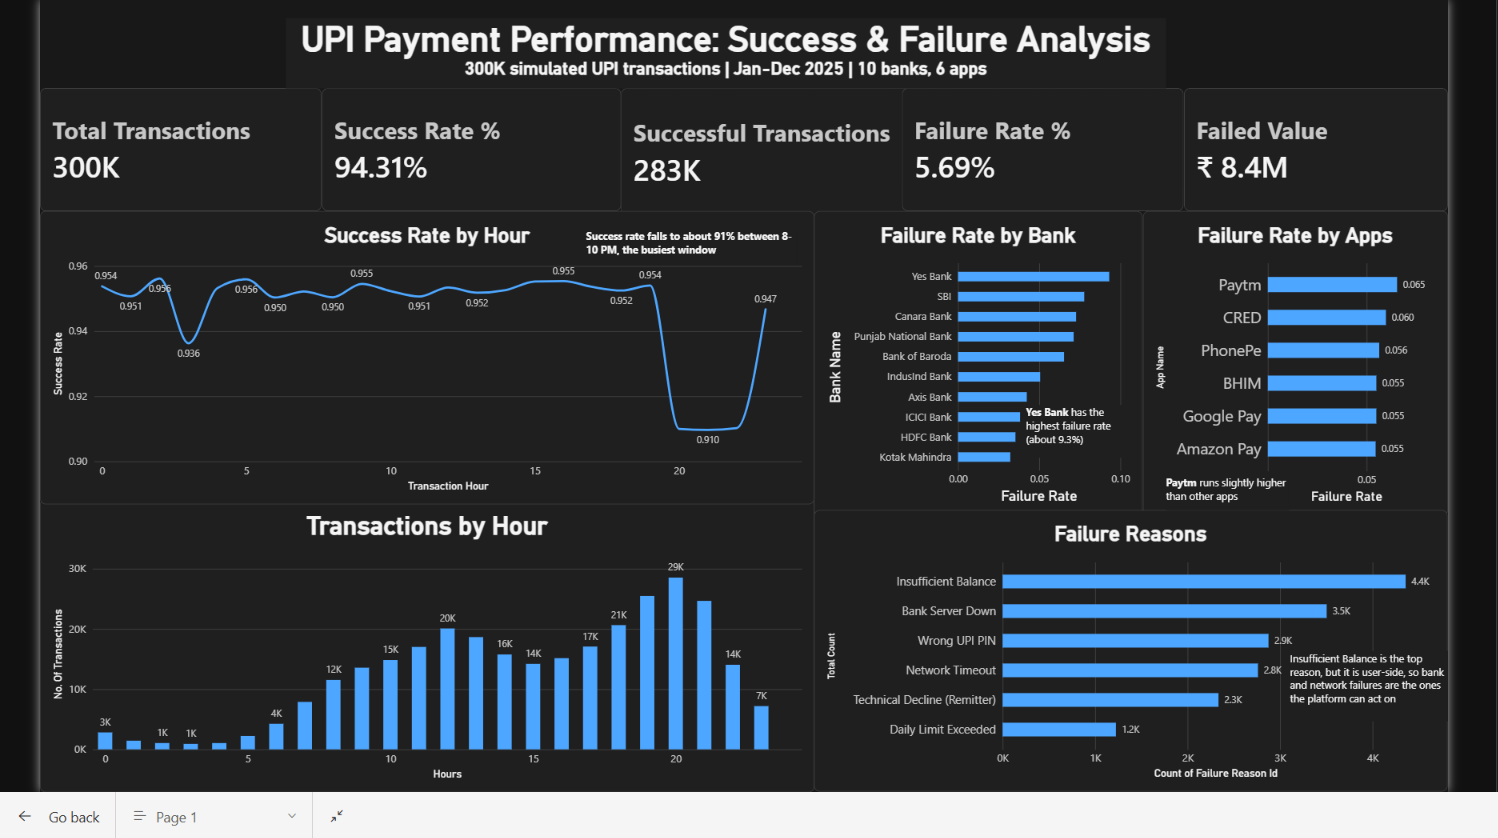

The dashboard page shown, as its layout file describes it:
{"tool":"powerbi","page":{"name":"Page 1","canvas":[1920,1080],"ordinal":0},"visuals":[{"type":"barChart","title":"Failure Rate by Apps","fields":{"Category":["dim_app.app_name"],"Y":["fact_transactions.Failure_Rate"]},"box":[1504,288,416,416],"z":0},{"type":"cardVisual","title":"Total Transactions","fields":{"Data":["fact_transactions.Total_transactions"]},"box":[0,120,384,168],"z":1000},{"type":"cardVisual","fields":{"Data":["fact_transactions.Successful_Transactions"]},"box":[792,120,400,176],"z":2000},{"type":"clusteredBarChart","title":"Failure Rate by Bank","fields":{"Category":["dim_bank.bank_name"],"Y":["fact_transactions.Failure_Rate"]},"box":[1056,288,448,416],"z":3000},{"type":"cardVisual","fields":{"Data":["fact_transactions.success_rate"]},"box":[384,120,408,168],"z":3001},{"type":"columnChart","title":"Transactions by Hour","fields":{"Category":["fact_transactions.txn_hour"],"Y":["fact_transactions.Total_transactions"]},"box":[0,680,1056,400],"z":3002},{"type":"cardVisual","fields":{"Data":["fact_transactions.Failure_Rate"]},"box":[1176,120,384,168],"z":3003},{"type":"cardVisual","fields":{"Data":["fact_transactions.Failed_transaction"]},"box":[1560,120,360,168],"z":3004},{"type":"lineChart","title":"Success Rate by Hour","fields":{"Category":["fact_transactions.txn_hour"],"Y":["fact_transactions.success_rate"]},"box":[0,288,1056,400],"z":3005},{"type":"clusteredBarChart","title":"Failure Reasons","fields":{"Category":["dim_failure_reason.failure_reason"],"Y":["CountNonNull(fact_transactions.failure_reason_id)"]},"box":[1056,696,864,384],"z":3006},{"type":"textbox","box":[336,24,1200,96],"z":3008},{"type":"textbox","box":[744,312,288,48],"z":3009},{"type":"textbox","box":[1344,552,144,72],"z":3010},{"type":"textbox","box":[1536,648,168,48],"z":3011},{"type":"textbox","box":[1704,888,216,96],"z":3012}]}

Visuals, with their boxes on the page's 1920x1080 design canvas (x1, y1, x2, y2). These are canvas units, not pixel positions in the 1498x838 screenshot, which may show the page scaled, cropped or inside an application window:
"Failure Rate by Apps" barChart: bbox(1504, 288, 1920, 704)
"Total Transactions" cardVisual: bbox(0, 120, 384, 288)
cardVisual - fact_transactions.Successful_Transactions: bbox(792, 120, 1192, 296)
"Failure Rate by Bank" clusteredBarChart: bbox(1056, 288, 1504, 704)
cardVisual - fact_transactions.success_rate: bbox(384, 120, 792, 288)
"Transactions by Hour" columnChart: bbox(0, 680, 1056, 1080)
cardVisual - fact_transactions.Failure_Rate: bbox(1176, 120, 1560, 288)
cardVisual - fact_transactions.Failed_transaction: bbox(1560, 120, 1920, 288)
"Success Rate by Hour" lineChart: bbox(0, 288, 1056, 688)
"Failure Reasons" clusteredBarChart: bbox(1056, 696, 1920, 1080)
textbox: bbox(336, 24, 1536, 120)
textbox: bbox(744, 312, 1032, 360)
textbox: bbox(1344, 552, 1488, 624)
textbox: bbox(1536, 648, 1704, 696)
textbox: bbox(1704, 888, 1920, 984)
